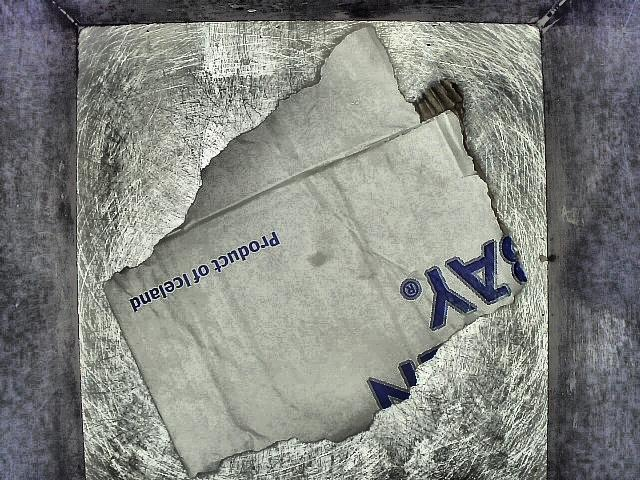Paper: (91, 23, 531, 480)
